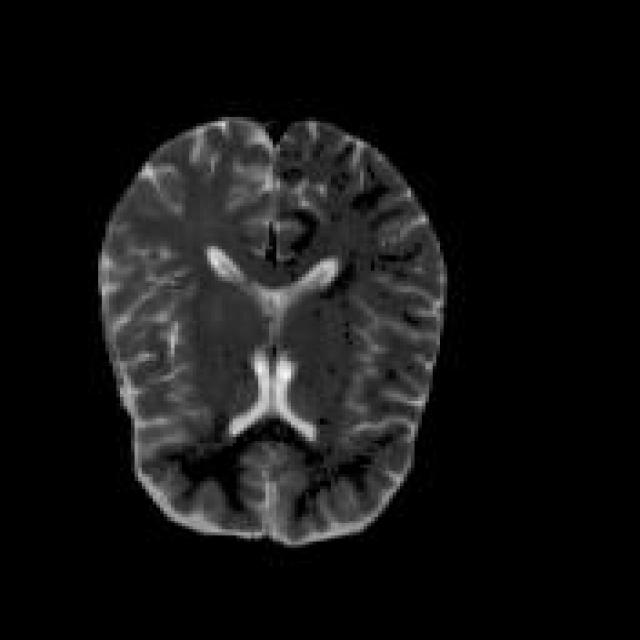parkinson: (95, 110, 447, 544)
